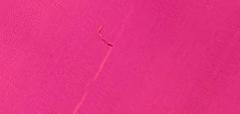snag: (94, 23, 117, 53)
